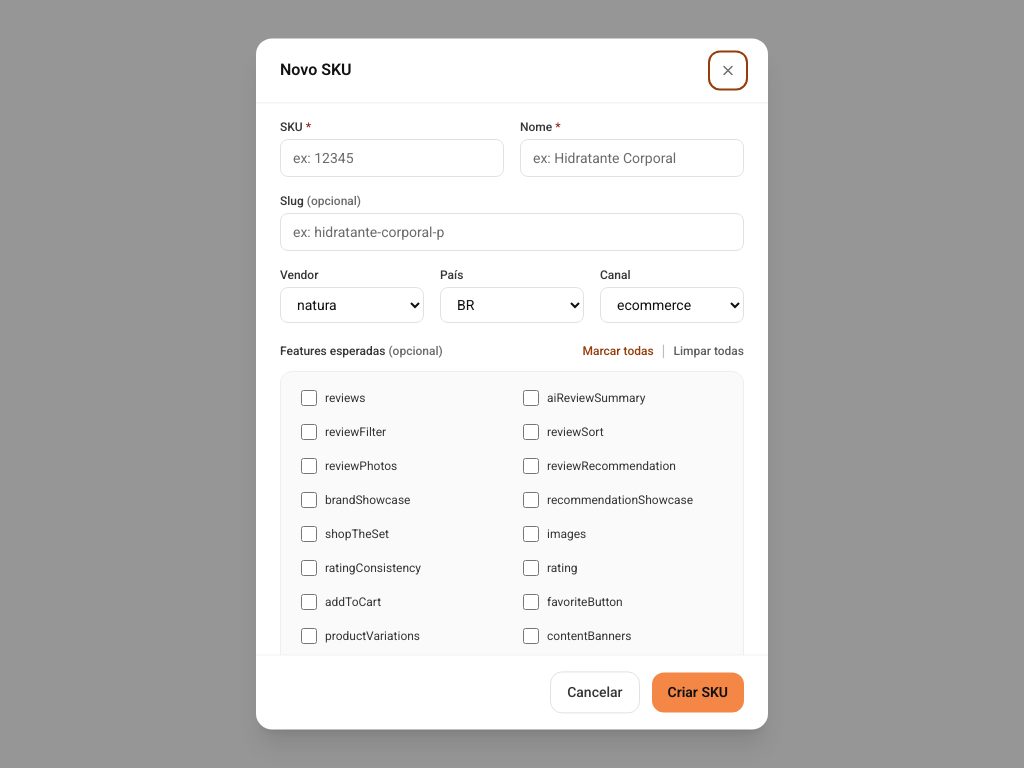
Test: SkuForm › exibe erro de validação quando Nome está vazio
This screenshot has width=1024, height=768.
Type "NATBRA-123" into the field labelled "SKU *" at (392, 158), box 280,139 -> 504,177
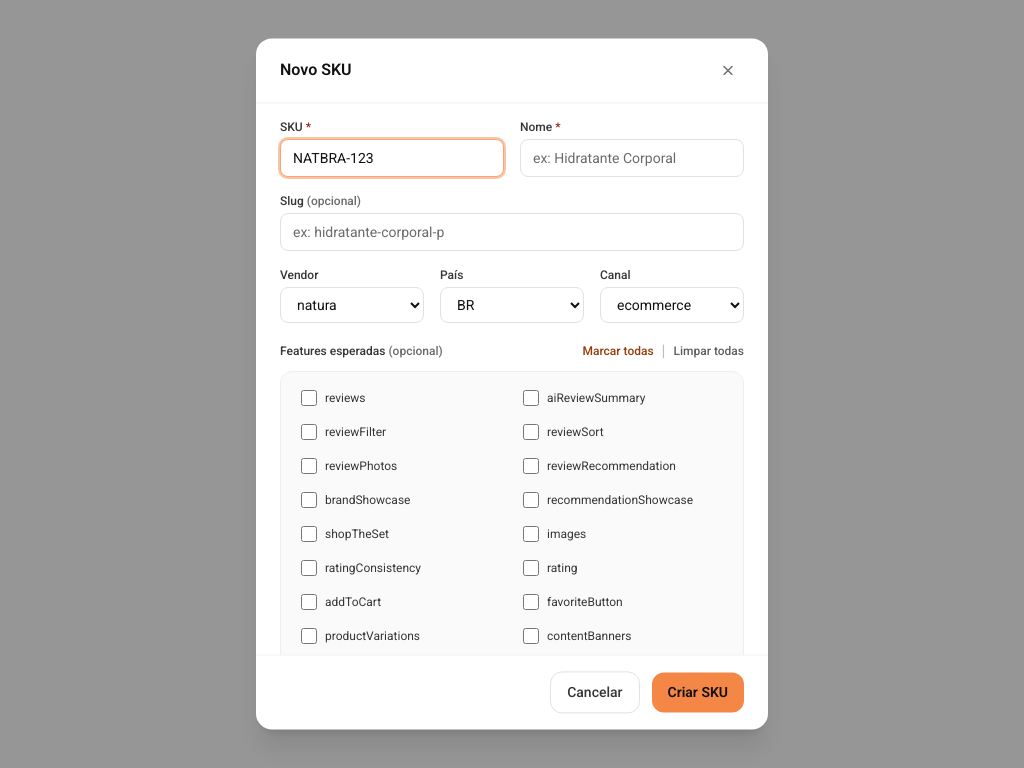
Click the button "Criar SKU" at (698, 693), box 652,673 -> 744,713
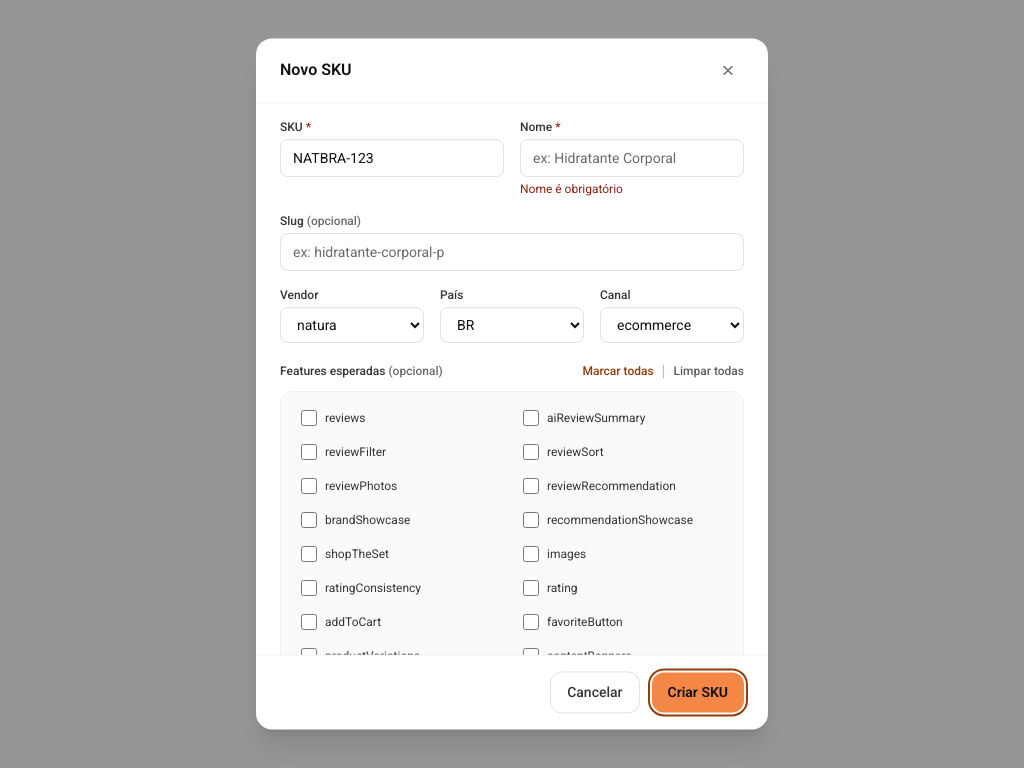
Expected: the text "Nome é obrigatório" is shown, 520,182 -> 623,196
